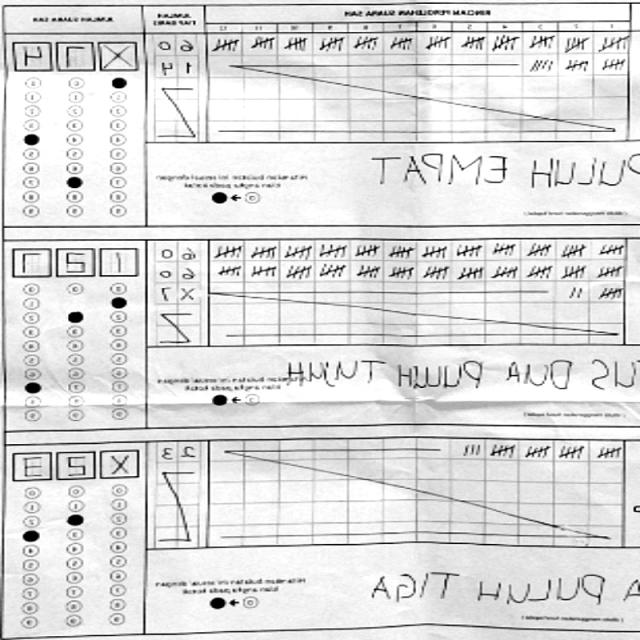Suara: (10, 445, 145, 485), (10, 34, 144, 74), (8, 239, 142, 279)
